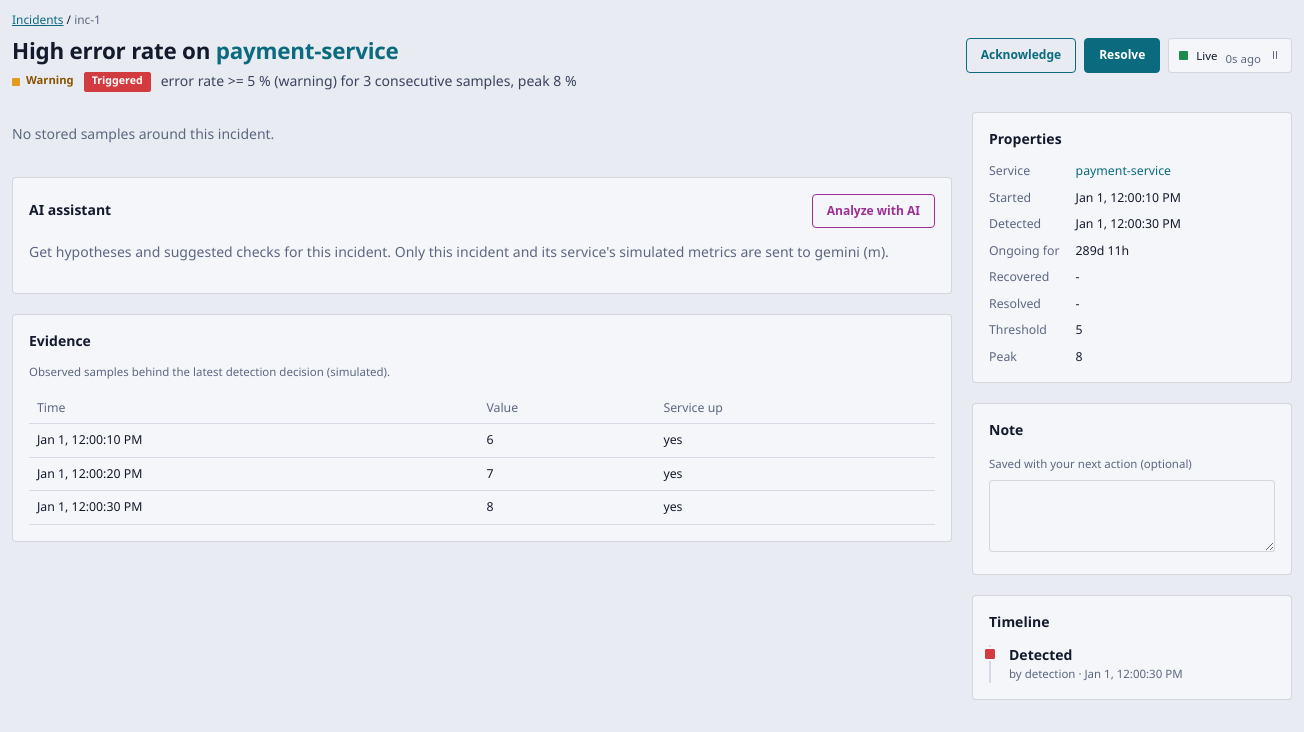
Test: AI assistant › shows the quota message and keeps the page usable
Click the button "Analyze with AI".
click(873, 211)  # box [812,194,935,228]
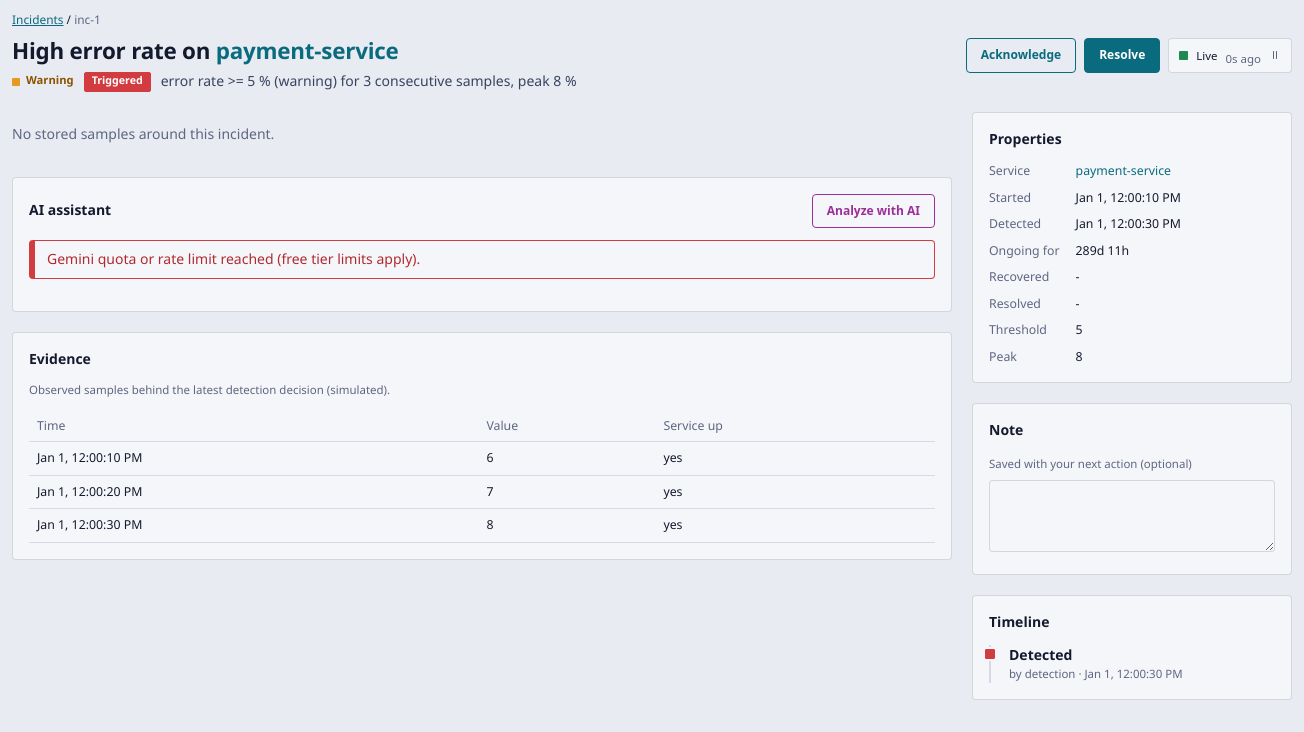
Check: the button "Resolve" is enabled, box [1084,38,1160,72]
Check: the message shows "quota", box [47,250,420,269]
